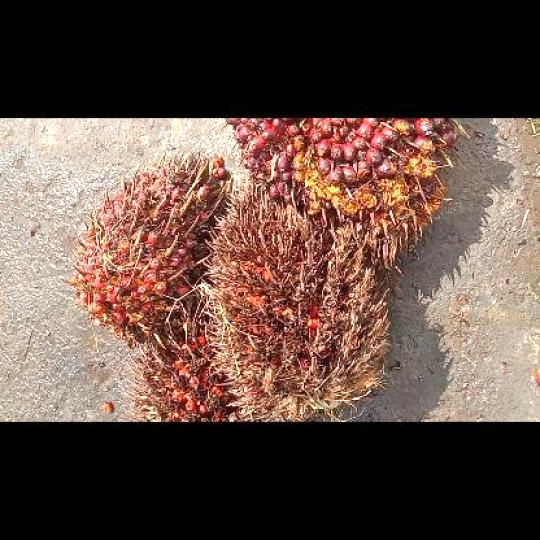masak: (225, 118, 468, 270), (69, 149, 224, 347)
terlalu masak: (200, 180, 389, 420), (115, 322, 235, 420)
